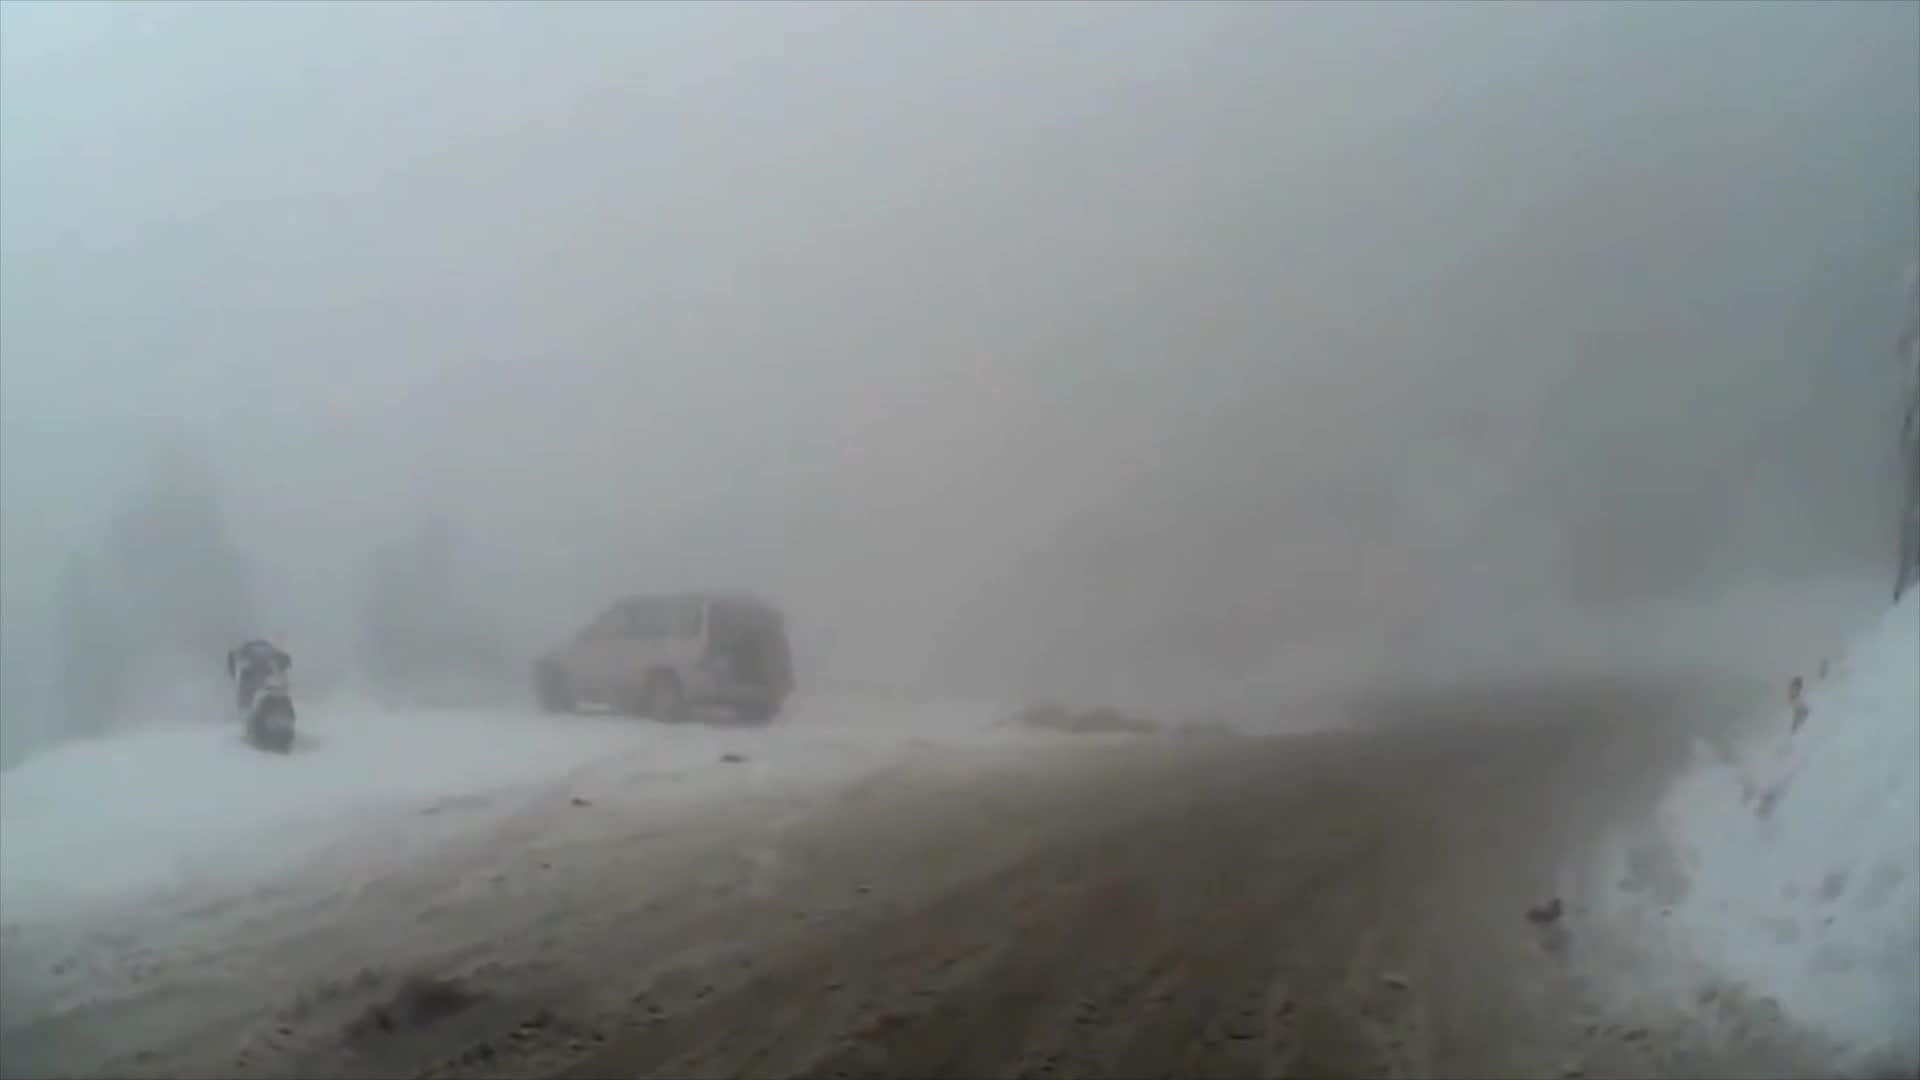vehicle: (526, 589, 791, 725)
